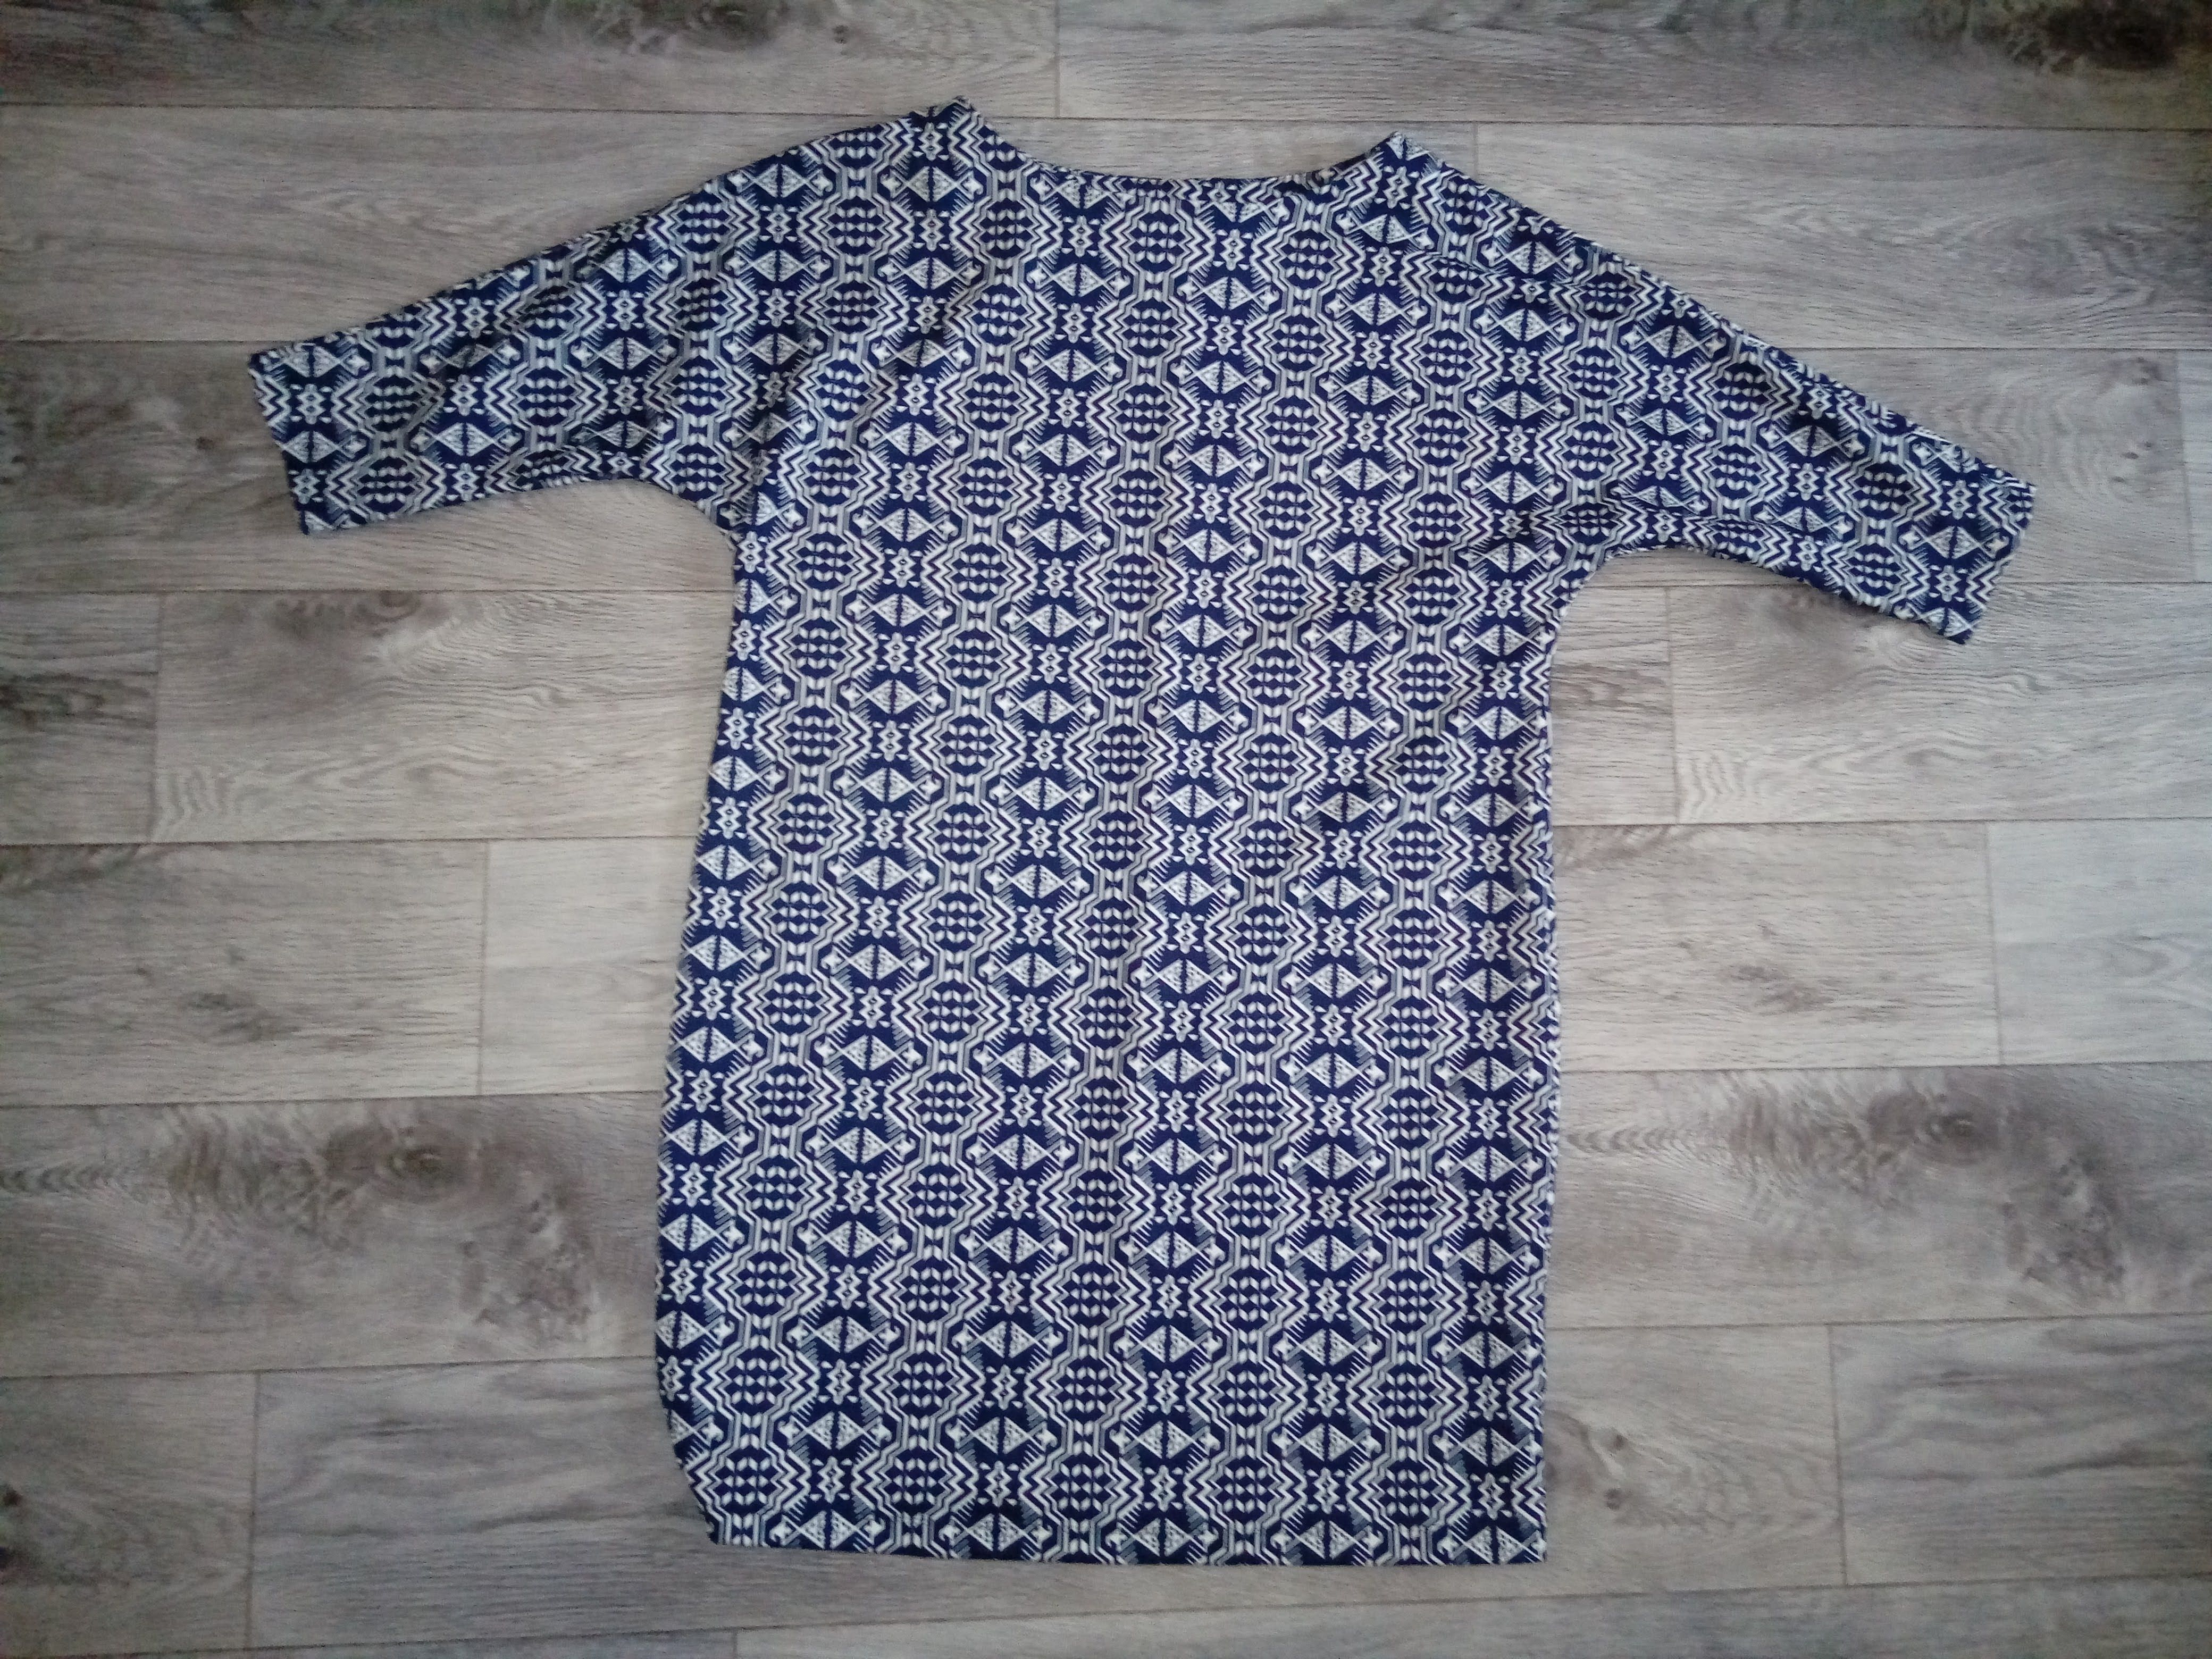clothes: (272, 96, 2013, 1549)
